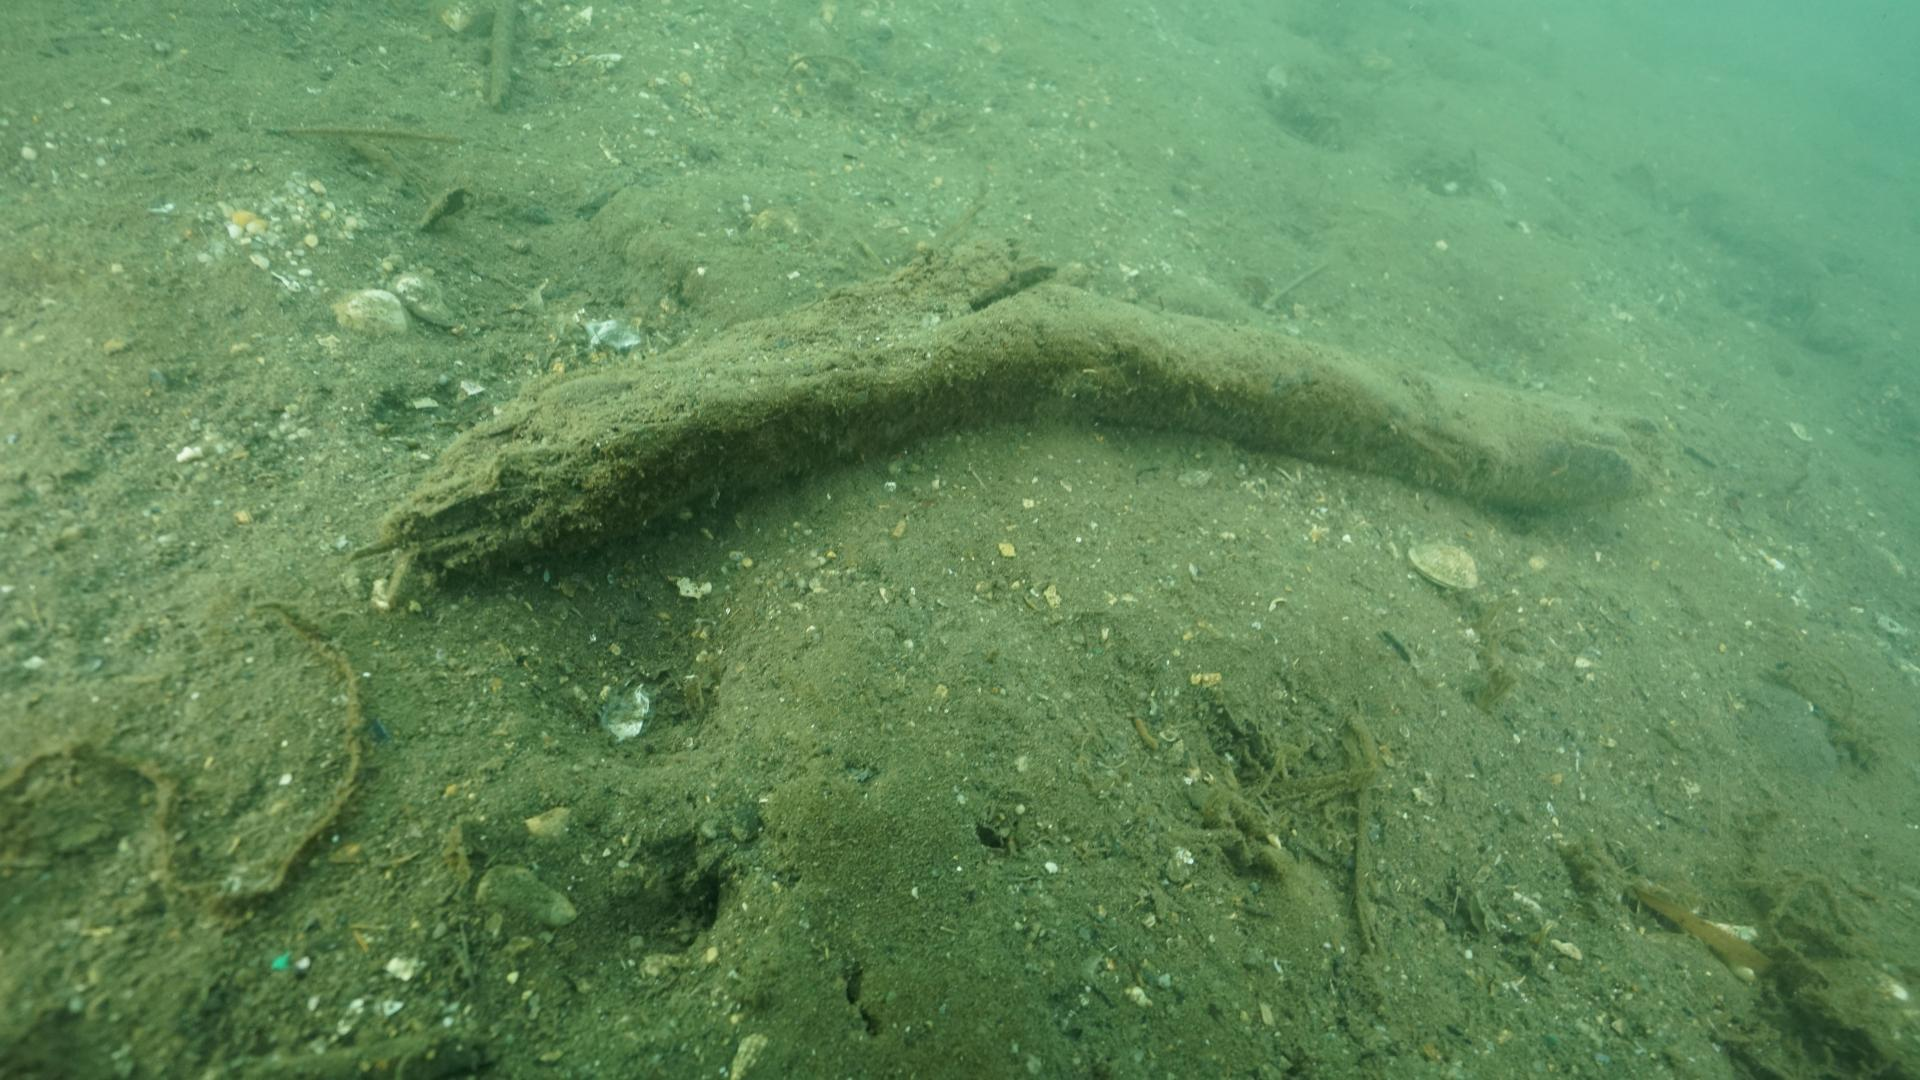wood: (382, 232, 1656, 593)
